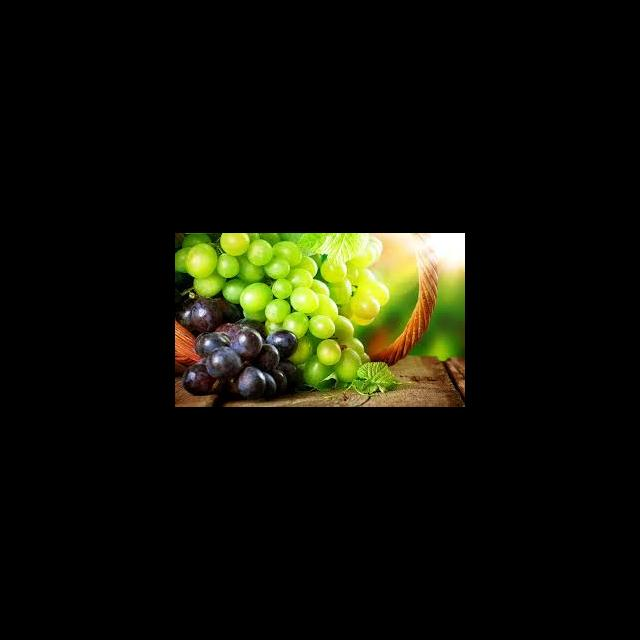grape: (175, 233, 389, 399)
